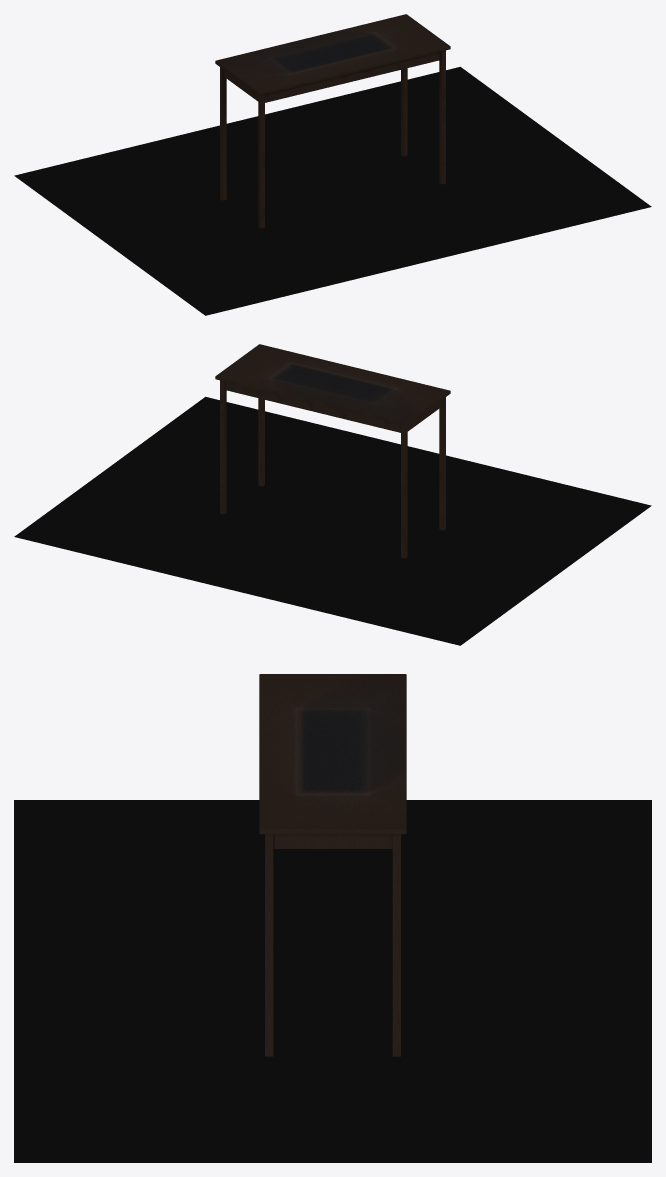
Rendered from u7_cellSnFe.glb.
3 renders of one model, top to bottom at view 1: azimuth 30°, elevation 25°; view 2: azimuth 150°, elevation 25°; view 3: azimuth 270°, elevation 25°, orthographic. The views are drawn at different scales.
Visible parts, largest first — view 1: Shadow, Table; view 2: Shadow, Table; view 3: Shadow, Table.
Boxes of the visible parts, x1,y1,x2,y2 form: Shadow: (14, 66, 651, 315); Table: (215, 14, 450, 228); Shadow: (14, 396, 651, 645); Table: (215, 344, 450, 558); Shadow: (14, 800, 651, 1162); Table: (259, 674, 406, 1056).
Bounding box in the file's own units: 10.5 × 3.1 × 7.8.
2 materials, 2 textured.
